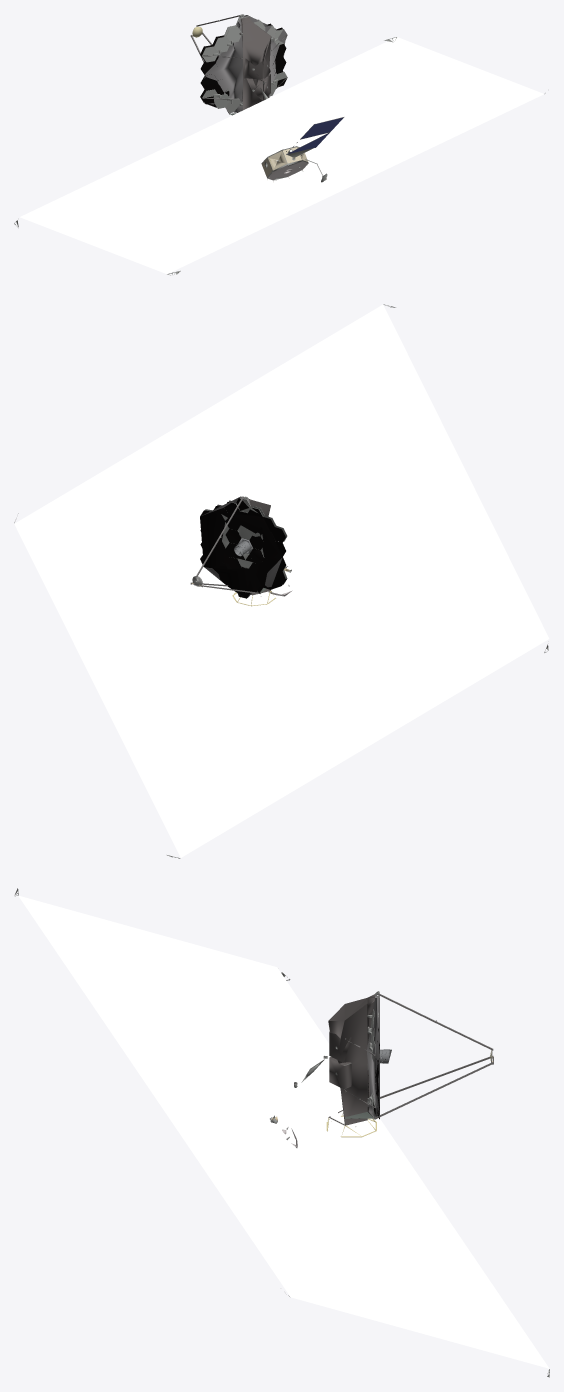
Rendered from advanced-technology-large-aperture-space-telesco.glb.
3 renders of one model, top to bottom at view 1: azimuth 30°, elevation 25°; view 2: azimuth 150°, elevation 25°; view 3: azimuth 270°, elevation 25°, orthographic. The views are drawn at different scales.
Parts seen in each view (by area): view 1: Fake; view 2: Fake; view 3: Fake.
Boxes of the visible parts, box(x1,y1,x2,y2) form: Fake: box(14, 14, 545, 275); Fake: box(14, 304, 549, 858); Fake: box(14, 888, 549, 1377).
Bounding box in the file's own units: 27.19 × 19.32 × 19.38.
3 materials, 3 textured.
